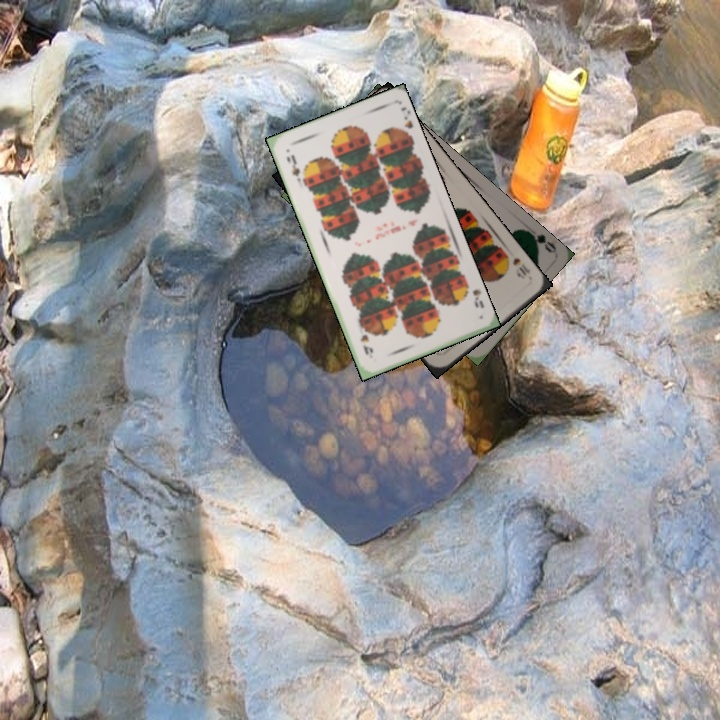GO: (521, 226, 558, 256)
S10: (500, 250, 533, 281)
S9: (461, 278, 487, 311), (282, 151, 302, 179)
